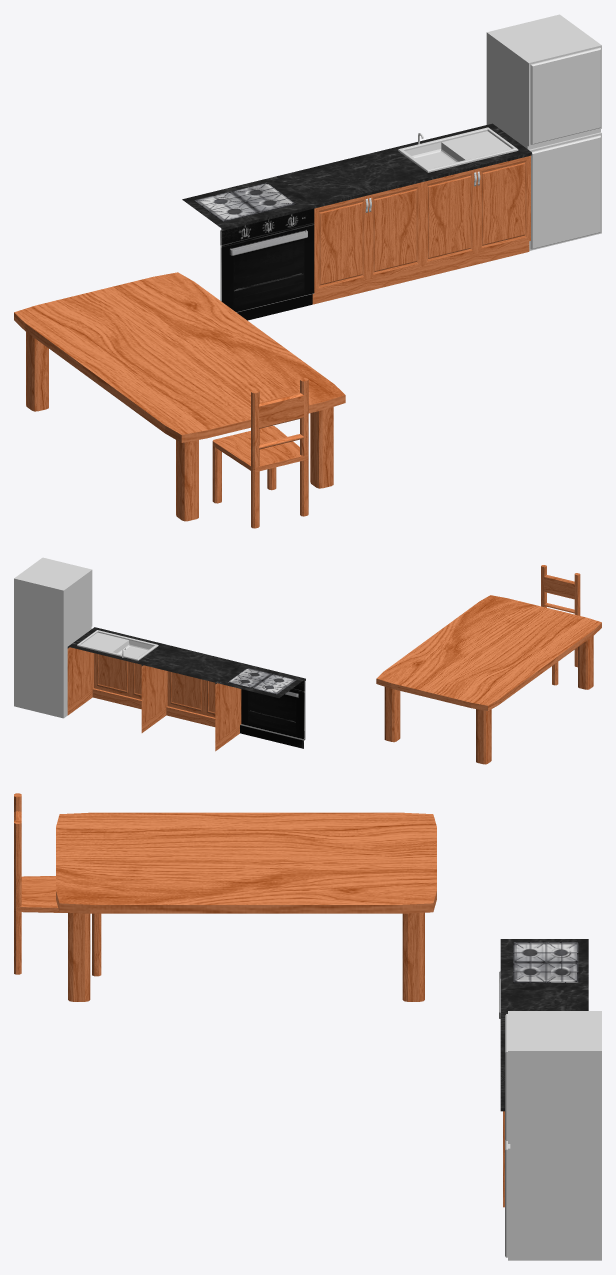
Rendered from kitchen.fbx.
3 renders of one model, top to bottom at view 1: azimuth 30°, elevation 25°; view 2: azimuth 150°, elevation 25°; view 3: azimuth 270°, elevation 25°, orthographic. The views are drawn at different scales.
Visible parts, largest first — view 1: table, fridge, sink, oven, pressR, pressL, chair; view 2: table, fridge, sink, oven, pressL, pressR, chair; view 3: table, fridge, oven, chair, pressL.
Boxes of the visible parts, <box> form: table: <box>14,272,345,521</box>; fridge: <box>486,14,601,250</box>; sink: <box>384,123,531,277</box>; oven: <box>182,176,315,320</box>; pressR: <box>330,150,423,291</box>; pressL: <box>276,163,369,304</box>; chair: <box>212,378,308,528</box>; table: <box>376,595,601,764</box>; fridge: <box>14,557,92,718</box>; sink: <box>67,627,167,732</box>; oven: <box>215,663,305,748</box>; pressL: <box>179,654,241,751</box>; pressR: <box>141,645,204,724</box>; chair: <box>541,565,580,685</box>; table: <box>56,812,436,1001</box>; fridge: <box>505,1011,601,1260</box>; oven: <box>499,939,588,1018</box>; chair: <box>14,793,101,976</box>; pressL: <box>500,990,588,1019</box>.
Bounding box in the file's own units: 1707 × 492 × 1249.
